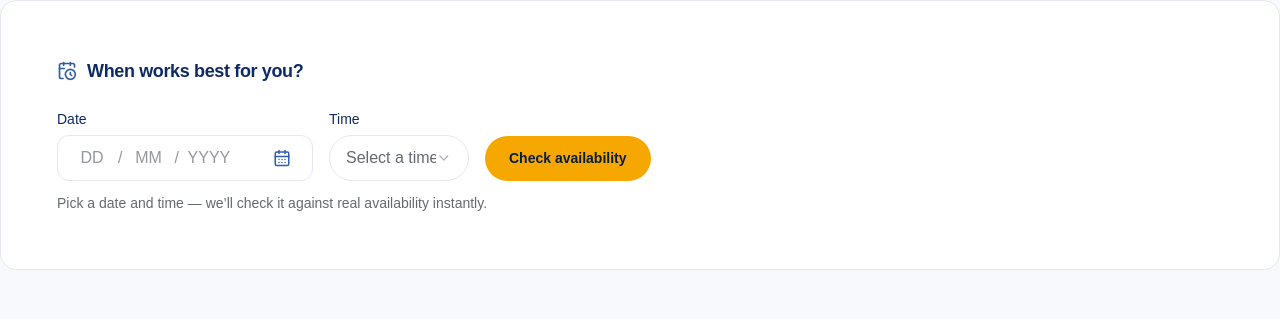
Test: BookingWidget — ask-then-confirm flow › validates that both a date and time are provided before checking
Click the button "Check availability". click: (568, 158)
box: [485,136,650,181]
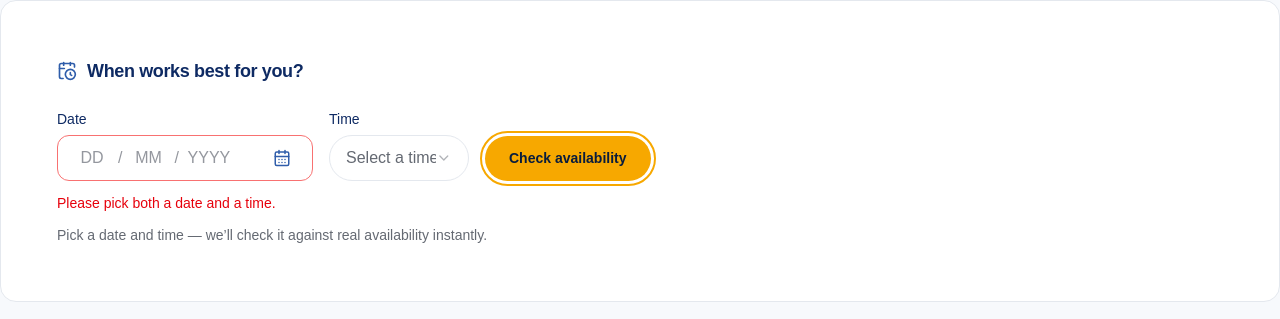
Check: the text "Please pick both a date and a time." is shown, box [57,195,276,211]
